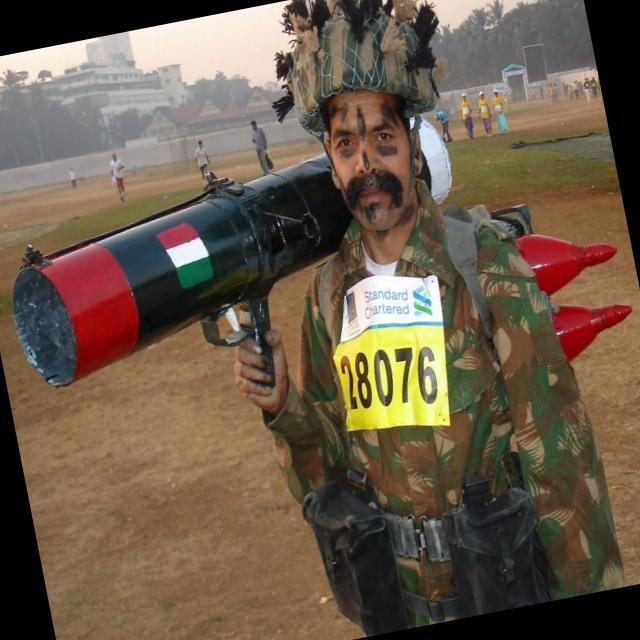rocket: (0, 138, 359, 401)
